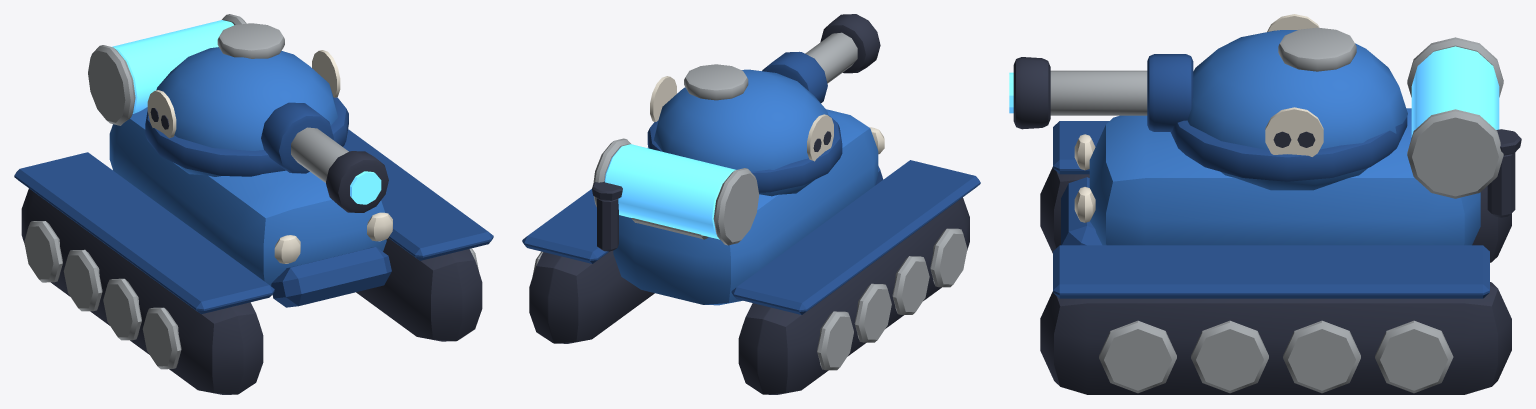
Rendered from Tank.fbx.
3 views of the same model, side by side, from view 1: azimuth 30°, elevation 25°; view 2: azimuth 150°, elevation 25°; view 3: azimuth 270°, elevation 25° (orthographic). The views are drawn at different scales.
Parts seen in each view (by area): view 1: Hull, Turret; view 2: Hull, Turret; view 3: Hull, Turret.
Boxes of the visible parts, x1,y1,x2,y2 form: Hull: [14, 14, 493, 394]; Turret: [145, 23, 388, 212]; Hull: [522, 109, 980, 394]; Turret: [647, 14, 880, 196]; Hull: [1040, 37, 1521, 394]; Turret: [1009, 14, 1407, 190].
Bounding box in the file's own units: 1.8 × 1.43 × 2.23.
